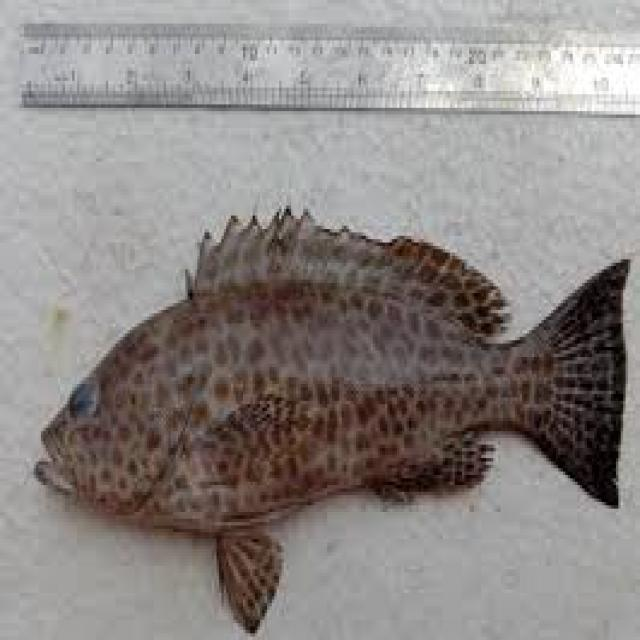Plectropomus-leopardus: (29, 192, 640, 623)
